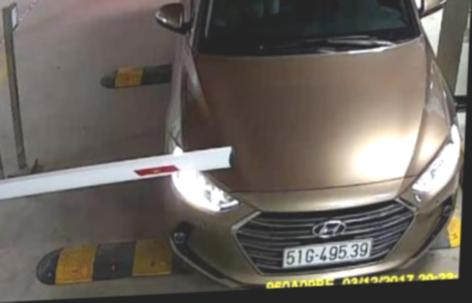License_Plate: (277, 239, 382, 270)
